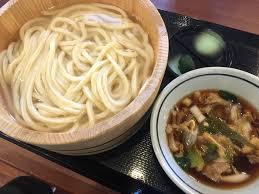kamaage: (1, 1, 170, 159)
